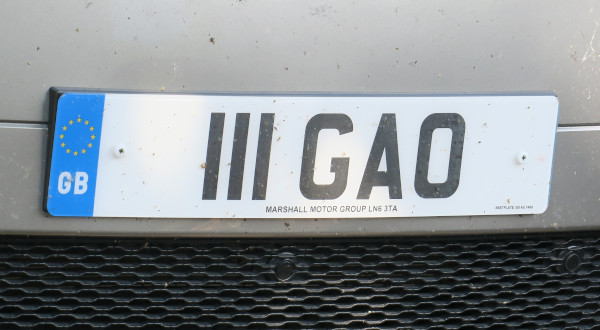license_plate: (46, 91, 559, 216)
